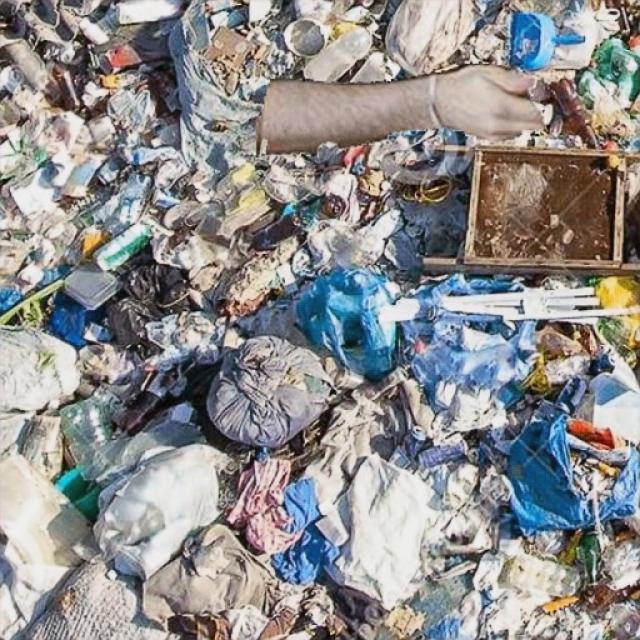Person in Rubble: (256, 62, 542, 156)
